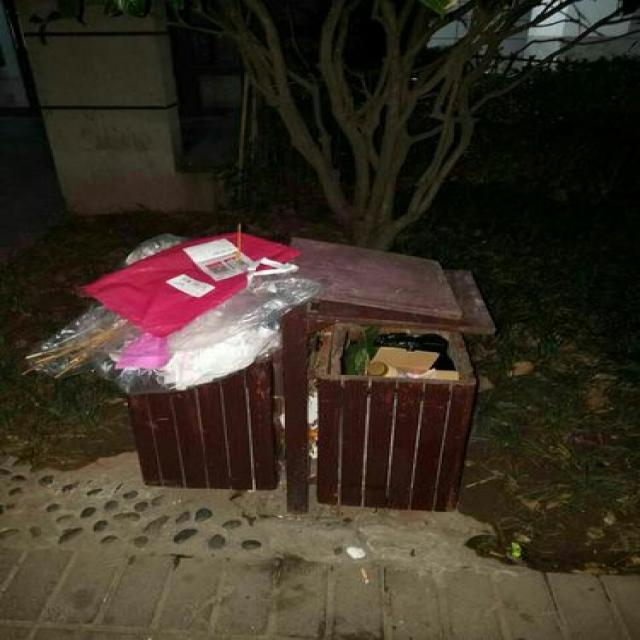overflow: (21, 226, 493, 514)
